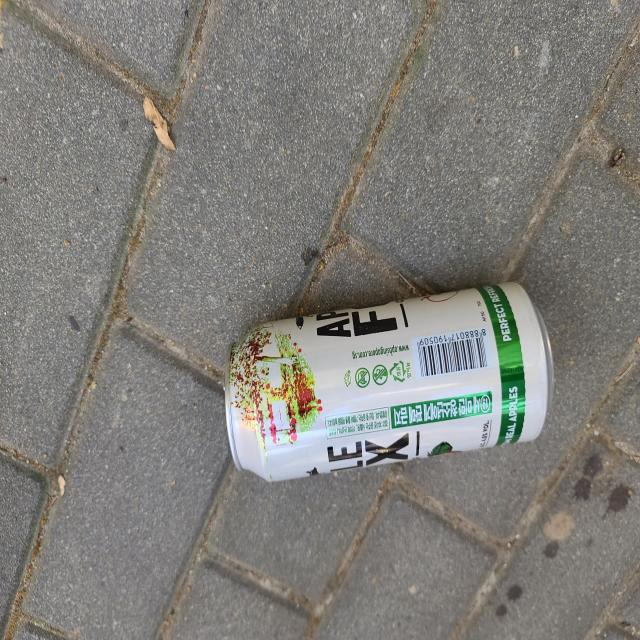can: (225, 282, 553, 481)
